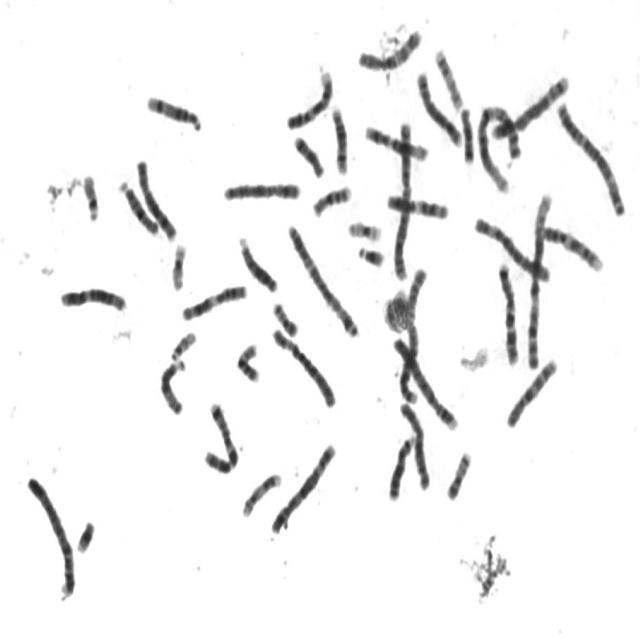A1: (523, 184, 555, 371), (471, 94, 523, 195)
A2: (396, 260, 428, 405), (388, 114, 414, 283)
A3: (551, 92, 629, 218), (282, 216, 361, 339)
B4: (388, 329, 460, 432), (22, 467, 77, 601)
B5: (266, 434, 338, 536), (486, 66, 572, 142)
C10: (501, 349, 560, 430), (352, 21, 424, 73)
C11: (177, 276, 250, 323), (382, 186, 452, 222)
C12: (360, 116, 430, 162), (54, 279, 128, 314)
C6: (267, 320, 338, 410), (468, 208, 552, 284)
C7: (199, 394, 240, 477), (492, 255, 522, 367)
C8: (411, 62, 464, 149), (132, 150, 180, 243)
C9: (536, 218, 606, 274), (281, 62, 335, 132)
D13: (234, 228, 280, 294), (383, 428, 418, 502)
D14: (141, 86, 204, 134), (326, 98, 350, 176)
D15: (114, 172, 160, 236), (155, 352, 187, 416)
E16: (307, 176, 354, 218), (232, 335, 262, 384)
E17: (430, 40, 466, 112), (237, 466, 283, 518)
E18: (289, 128, 326, 178), (456, 100, 476, 166)
F19: (166, 235, 189, 292), (342, 212, 383, 242)
F20: (441, 443, 474, 502), (267, 294, 300, 338)
G21: (72, 512, 98, 554), (353, 238, 387, 269)
G22: (77, 166, 101, 223), (166, 324, 199, 362)
X: (395, 394, 432, 492), (218, 174, 303, 204)
